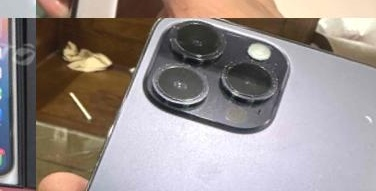scratch: (140, 18, 293, 137), (357, 111, 376, 136)
